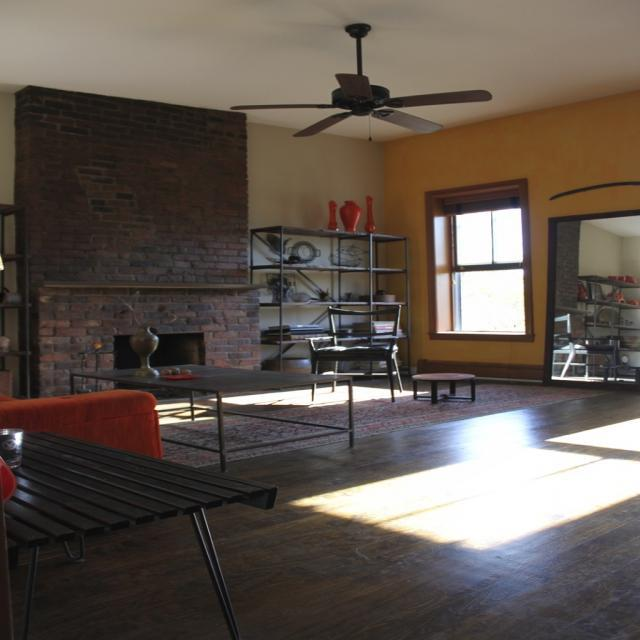fan_off: (232, 22, 490, 133)
